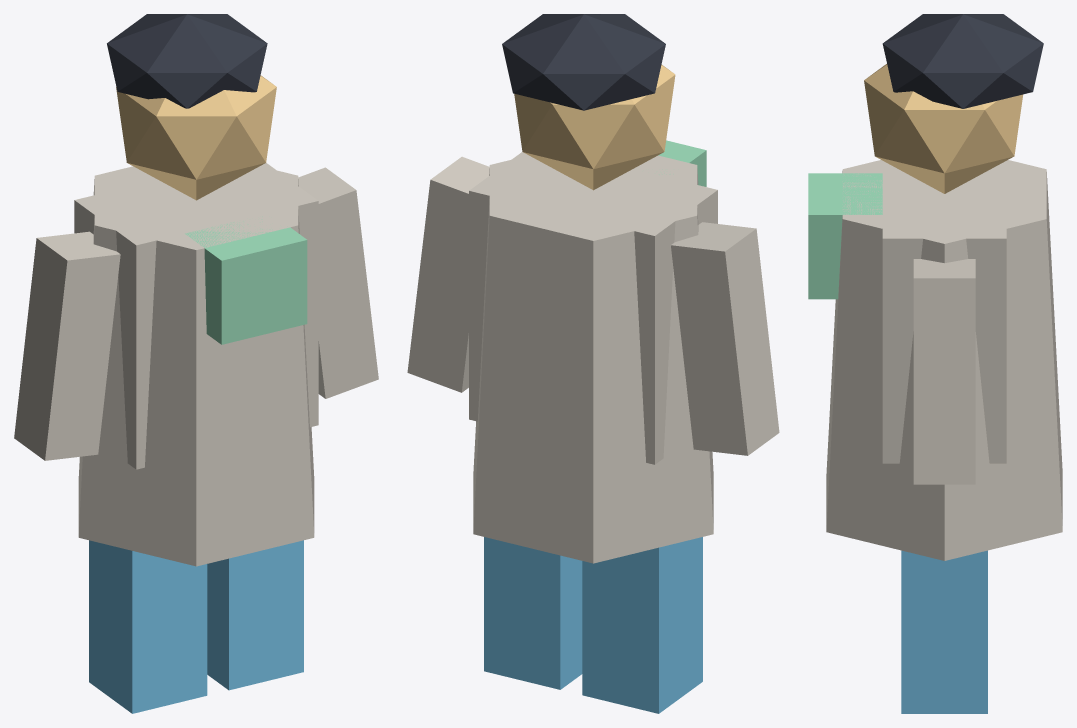
Rendered from people_doctor.glb.
The picture shows the model from 3 angles, left to right: view 1: azimuth 30°, elevation 25°; view 2: azimuth 150°, elevation 25°; view 3: azimuth 270°, elevation 25°; orthographic projection.
Visible parts, largest first — view 1: people_doctor; view 2: people_doctor; view 3: people_doctor.
Part boxes in pixels (left/top/right/bottom): people_doctor: left=14, top=14, right=378, bottom=713; people_doctor: left=407, top=14, right=779, bottom=713; people_doctor: left=808, top=14, right=1062, bottom=713.
Size of the model in its own units: 0.0623 by 0.117 by 0.0411.
